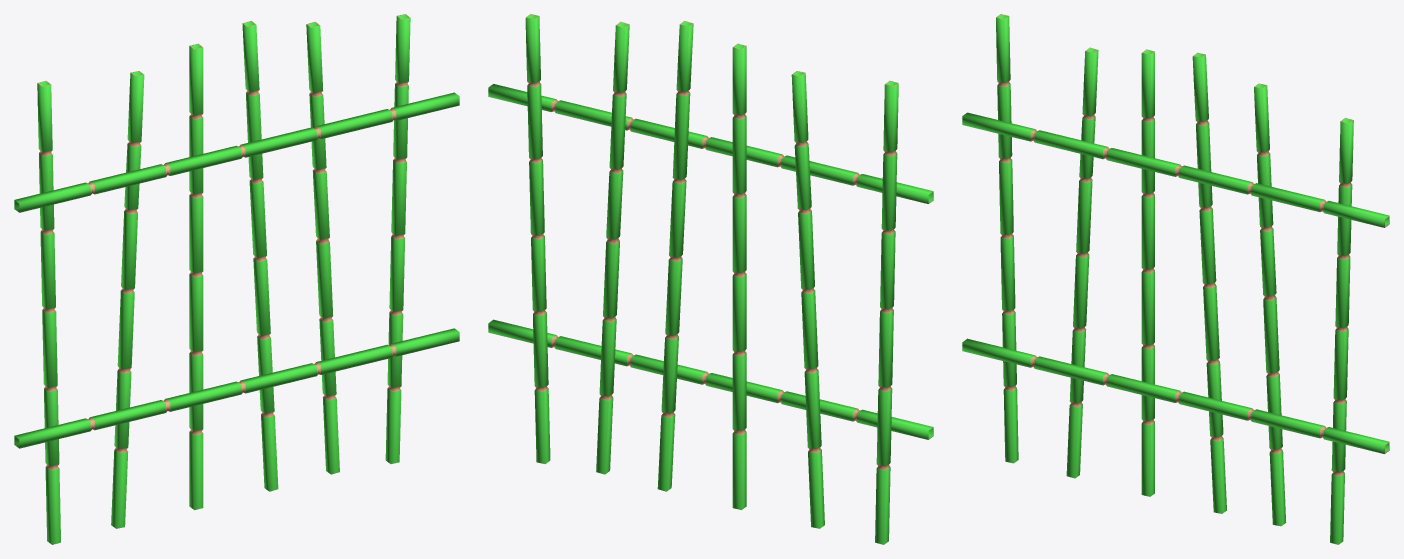
File: Cerca_Bambu.fbx
The picture shows the model from 3 angles, left to right: view 1: azimuth 30°, elevation 25°; view 2: azimuth 150°, elevation 25°; view 3: azimuth 330°, elevation 25°; orthographic projection. The views are drawn at different scales.
Parts seen in each view (by area): view 1: Cerca_Bambu; view 2: Cerca_Bambu; view 3: Cerca_Bambu.
Boxes of the visible parts, x1=… form: Cerca_Bambu: x1=14, y1=14, x2=459, y2=544; Cerca_Bambu: x1=488, y1=14, x2=933, y2=544; Cerca_Bambu: x1=962, y1=14, x2=1389, y2=544.
Bounding box in the file's own units: 0.1135 × 2.61 × 2.68.
